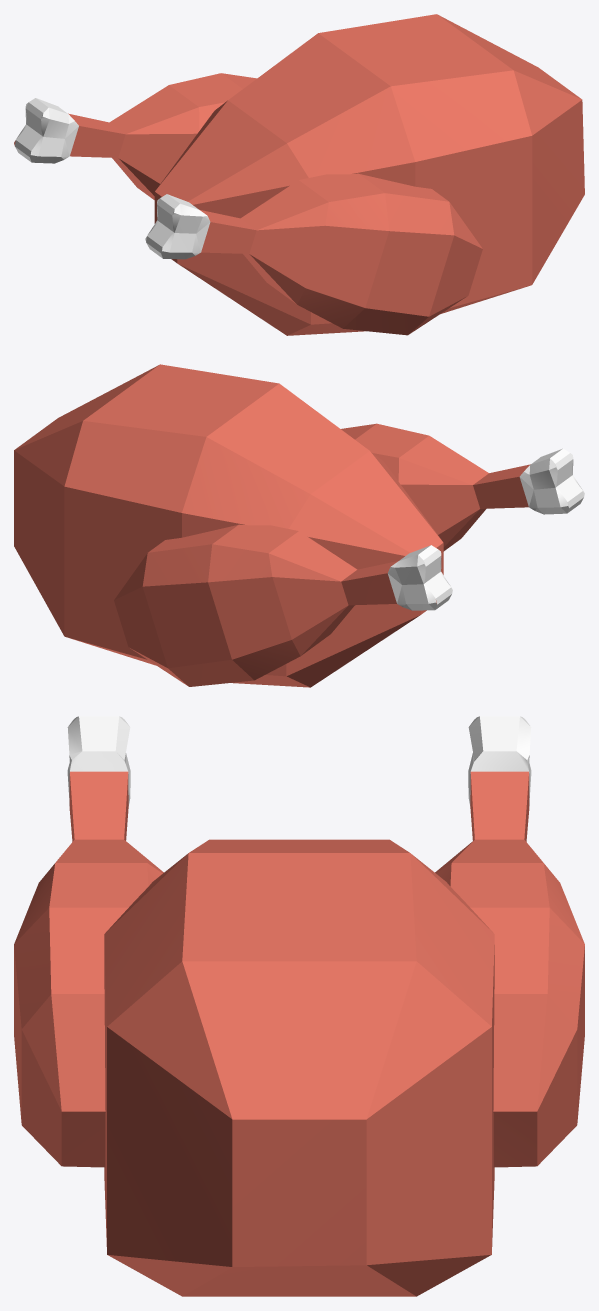
The model's file is Chicken_01.fbx.
3 views of the same model, one above another, from view 1: azimuth 30°, elevation 25°; view 2: azimuth 150°, elevation 25°; view 3: azimuth 270°, elevation 25° (orthographic). The views are drawn at different scales.
Parts seen in each view (by area): view 1: Chicken_01; view 2: Chicken_01; view 3: Chicken_01.
Boxes of the visible parts, <box> form: Chicken_01: <box>14,14,584,335</box>; Chicken_01: <box>14,364,584,687</box>; Chicken_01: <box>14,716,584,1296</box>.
Bounding box in the file's own units: 27.15 × 13.3 × 18.52.
